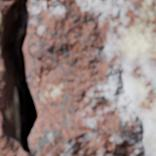broken_brick: (27, 0, 155, 155), (0, 47, 28, 155), (0, 0, 14, 33)
crack: (0, 0, 39, 155)
